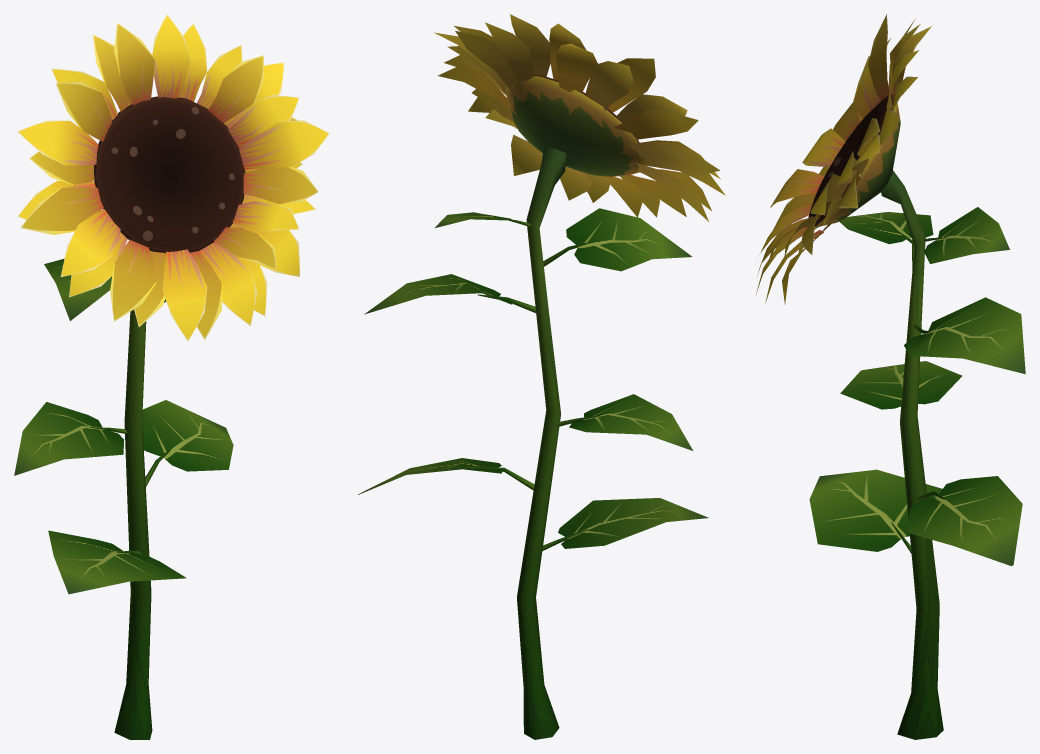
File: SunFlower.glb
3 renders of one model, left to right at view 1: azimuth 30°, elevation 25°; view 2: azimuth 150°, elevation 25°; view 3: azimuth 270°, elevation 25°, orthographic.
Visible parts, largest first — view 1: sunflower_head, sunflower_stem; view 2: sunflower_head, sunflower_stem; view 3: sunflower_stem, sunflower_head.
Part boxes in pixels (<box>): sunflower_head: <box>17,14,329,341</box>; sunflower_stem: <box>14,259,233,739</box>; sunflower_head: <box>434,14,725,221</box>; sunflower_stem: <box>358,146,708,739</box>; sunflower_stem: <box>809,170,1025,739</box>; sunflower_head: <box>755,14,931,304</box>.
Size of the model in its own units: 0.1711 by 0.3953 by 0.1388.
Materials: 1 (1 with a texture image).
